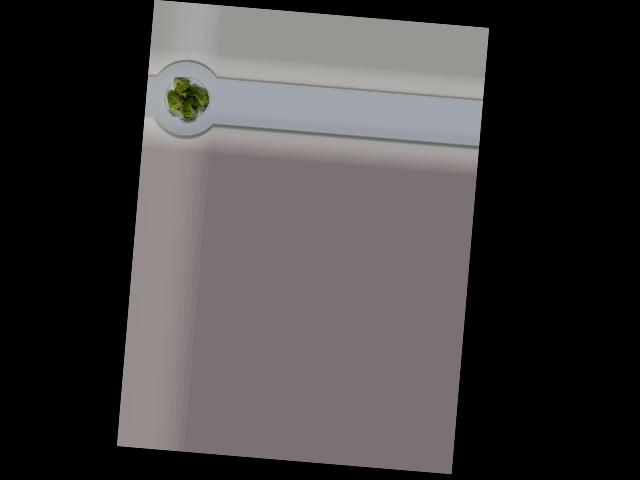lettuce: (166, 76, 214, 122)
